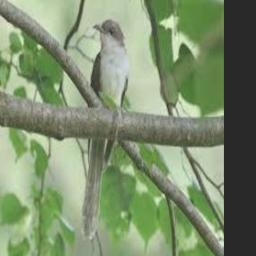Cuckoo: (83, 19, 129, 240)
